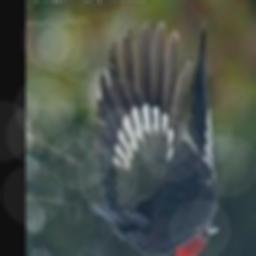Woodpecker: (88, 16, 219, 256)
